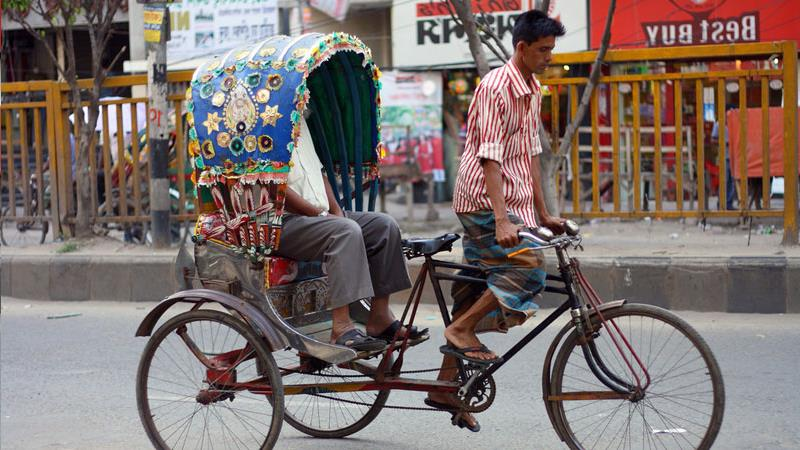Rickshaw: (136, 39, 741, 441)
